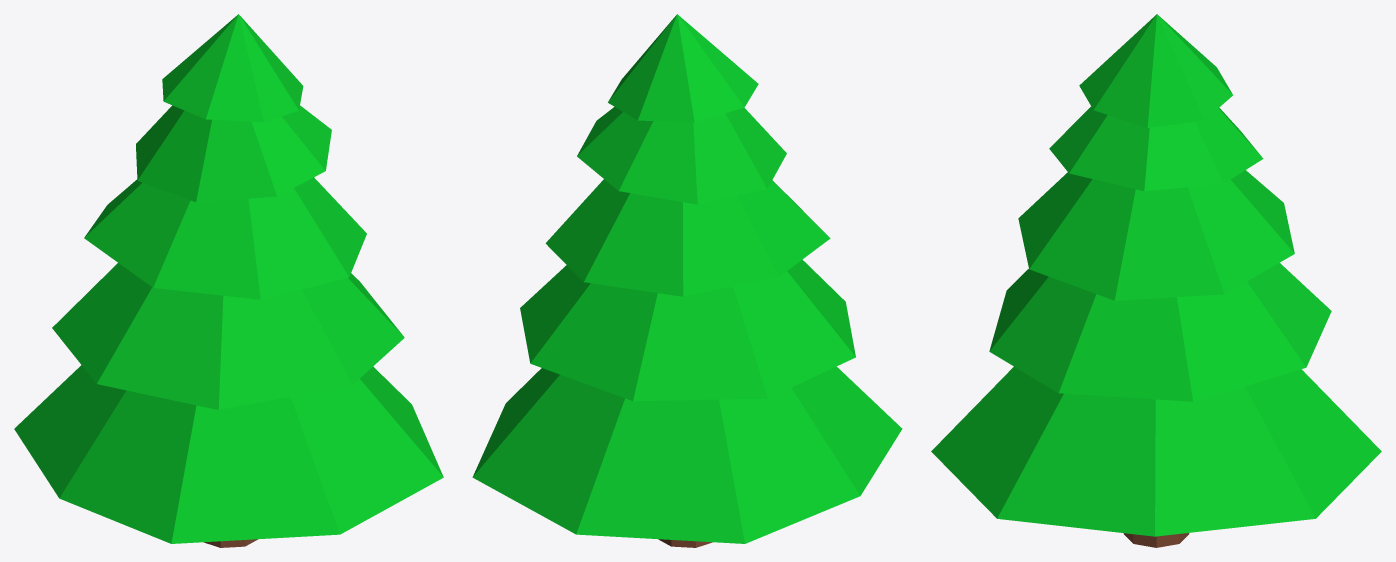
File: Tree2.fbx
The picture shows the model from 3 angles, left to right: view 1: azimuth 30°, elevation 25°; view 2: azimuth 150°, elevation 25°; view 3: azimuth 270°, elevation 25°; orthographic projection.
Parts seen in each view (by area): view 1: Tree2..optimised; view 2: Tree2..optimised; view 3: Tree2..optimised.
Part boxes in pixels (box(x1,y1,x2,y2)): Tree2..optimised: box(14, 14, 443, 547); Tree2..optimised: box(472, 14, 902, 547); Tree2..optimised: box(931, 14, 1381, 547).
Size of the model in its own units: 5.83 by 8.16 by 6.35.
Materials: 1 (1 with a texture image).
